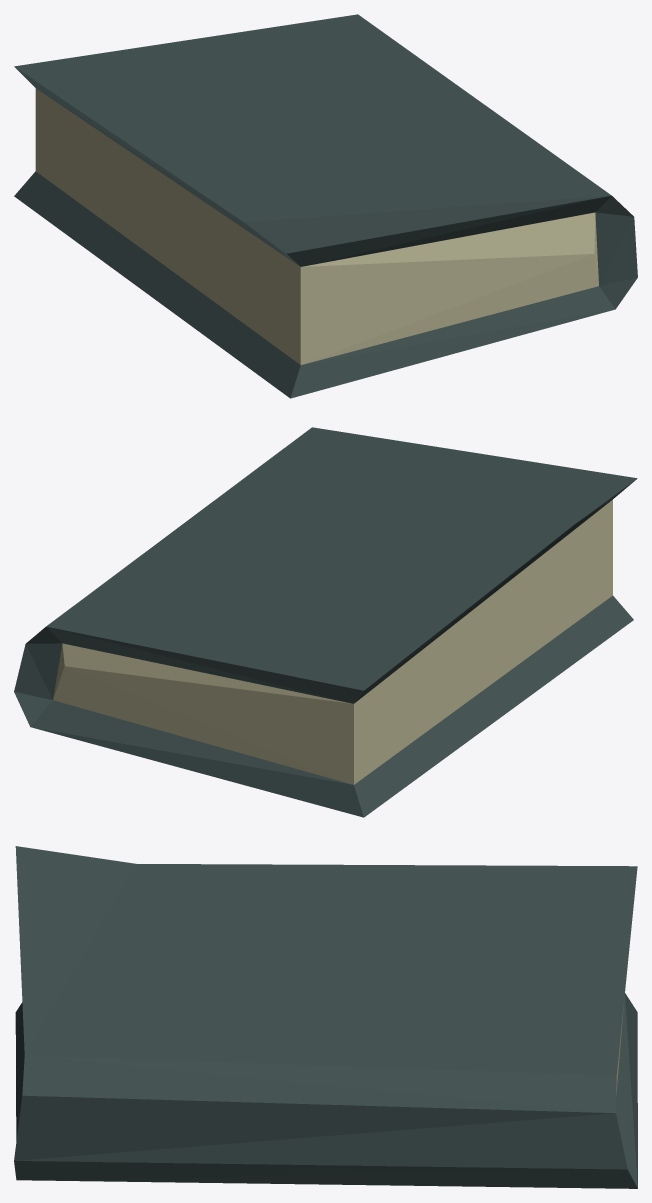
File: Book_Closed_Blue.fbx
3 views of the same model, one above another, from view 1: azimuth 30°, elevation 25°; view 2: azimuth 150°, elevation 25°; view 3: azimuth 270°, elevation 25° (orthographic). The views are drawn at different scales.
Parts seen in each view (by area): view 1: Book_Closed_Blue; view 2: Book_Closed_Blue; view 3: Book_Closed_Blue.
Part boxes in pixels (x1=…): Book_Closed_Blue: x1=14, y1=14, x2=637, y2=398; Book_Closed_Blue: x1=14, y1=427, x2=637, y2=817; Book_Closed_Blue: x1=14, y1=846, x2=637, y2=1188.
Bounding box in the file's own units: 72.55 × 27.59 × 95.1.
